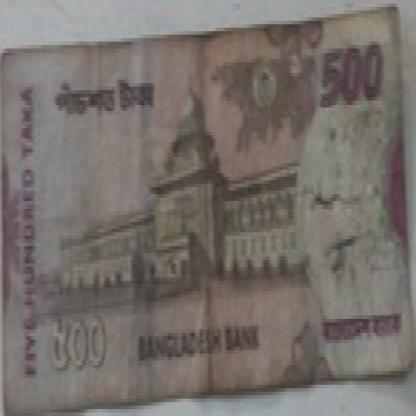500 taka: (48, 42, 168, 135), (50, 305, 115, 385)
currency: (3, 31, 414, 388)
